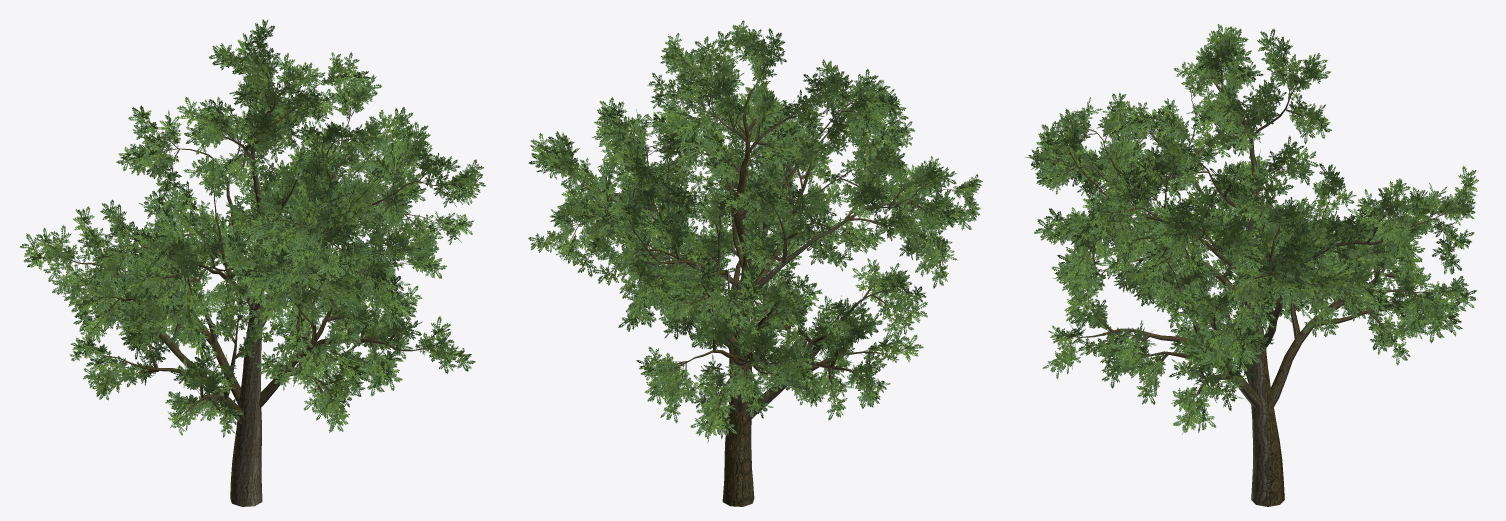
Rendered from Ceniza.glb.
The picture shows the model from 3 angles, left to right: view 1: azimuth 30°, elevation 25°; view 2: azimuth 150°, elevation 25°; view 3: azimuth 270°, elevation 25°; orthographic projection. The views are drawn at different scales.
Bounding box in the file's own units: 79.2 × 96.01 × 85.15.
Materials: 2 (2 with a texture image).
